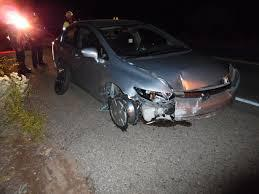bonnet-dent: (152, 61, 208, 90)
front-bumper-dent: (144, 95, 198, 125)
